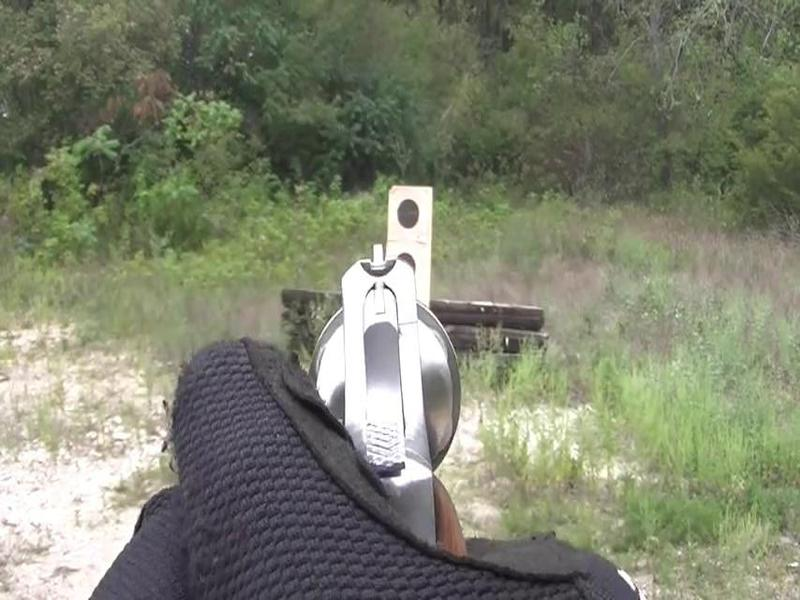Revolver: (282, 230, 481, 573)
